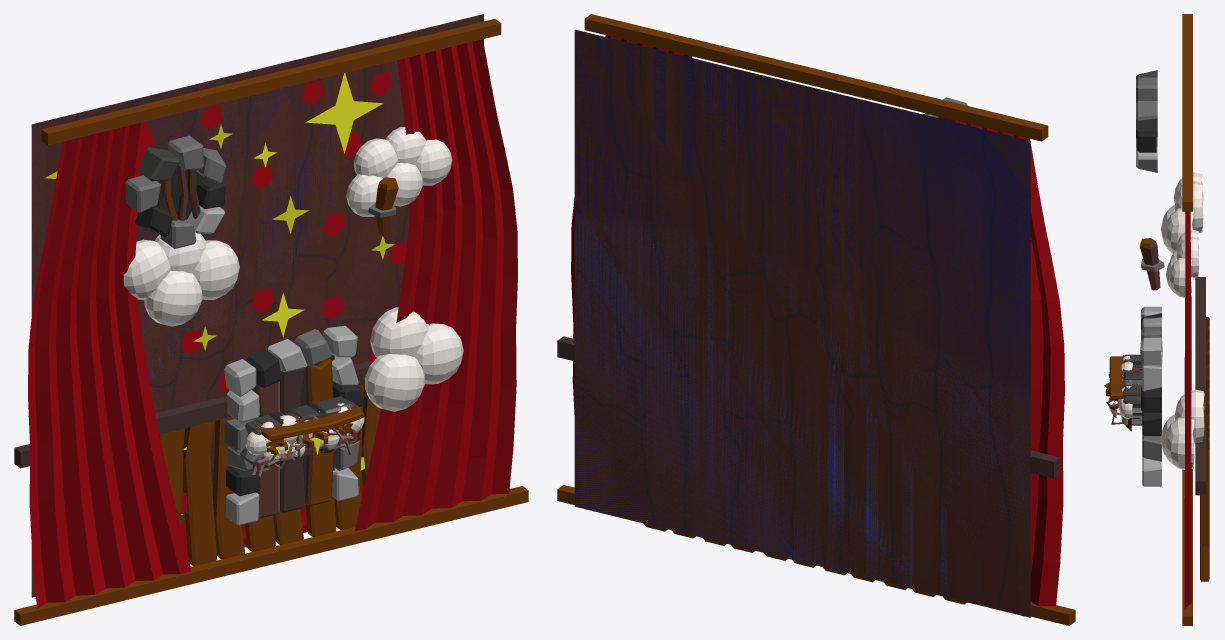
Rendered from tudo.fbx.
3 views of the same model, side by side, from view 1: azimuth 30°, elevation 25°; view 2: azimuth 150°, elevation 25°; view 3: azimuth 270°, elevation 25° (orthographic). The views are drawn at different scales.
Parts seen in each view (by area): view 1: Plane, Cube.015, Cube.003, Cube.004, Cube.014, Cube.006, Cube.005, Cube.013, Cylinder, Cube.016; view 2: Plane, Cube.014; view 3: Plane, Cube.015, Cube.003, Cube.004, Cylinder, Cube.005, Cube.013, Cube.006, Cube.016, Cube.007, Cube.011.
Boxes of the visible parts, box(x1,y1,x2,y2) form: Plane: box(14, 14, 528, 625); Cube.015: box(45, 73, 463, 514); Cube.003: box(224, 325, 364, 525); Cube.004: box(125, 135, 226, 248); Cube.014: box(31, 15, 482, 598); Cube.006: box(245, 396, 357, 477); Cube.005: box(245, 401, 362, 468); Cube.013: box(261, 407, 364, 441); Cylinder: box(368, 177, 398, 236); Cube.016: box(245, 417, 364, 461); Plane: box(557, 14, 1075, 625); Cube.014: box(574, 30, 1031, 616); Plane: box(1182, 14, 1209, 625); Cube.015: box(1160, 172, 1204, 469); Cube.003: box(1140, 306, 1162, 486); Cube.004: box(1136, 70, 1157, 172); Cylinder: box(1140, 238, 1164, 290); Cube.005: box(1105, 354, 1142, 415); Cube.013: box(1109, 356, 1141, 399); Cube.006: box(1104, 356, 1142, 425); Cube.016: box(1118, 355, 1132, 419); Cube.007: box(1123, 357, 1142, 425); Cube.011: box(1123, 355, 1139, 423).
Size of the model in its own units: 4141 by 3787 by 888.
